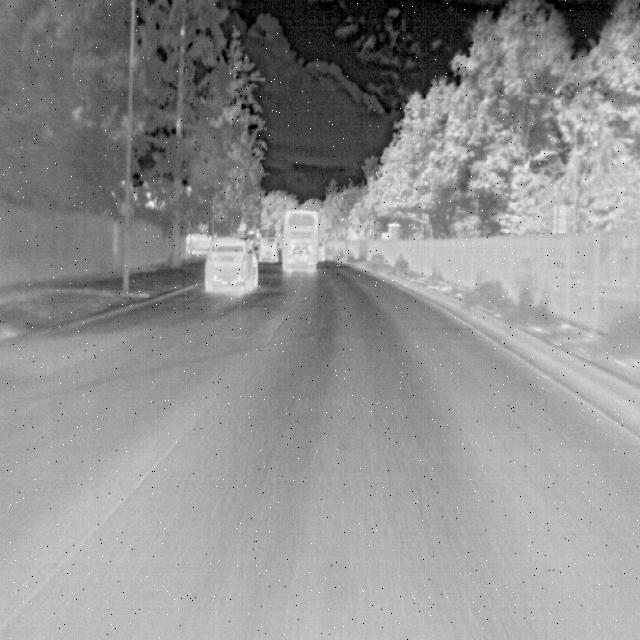Vehicle: (202, 234, 260, 296), (280, 207, 320, 274)
